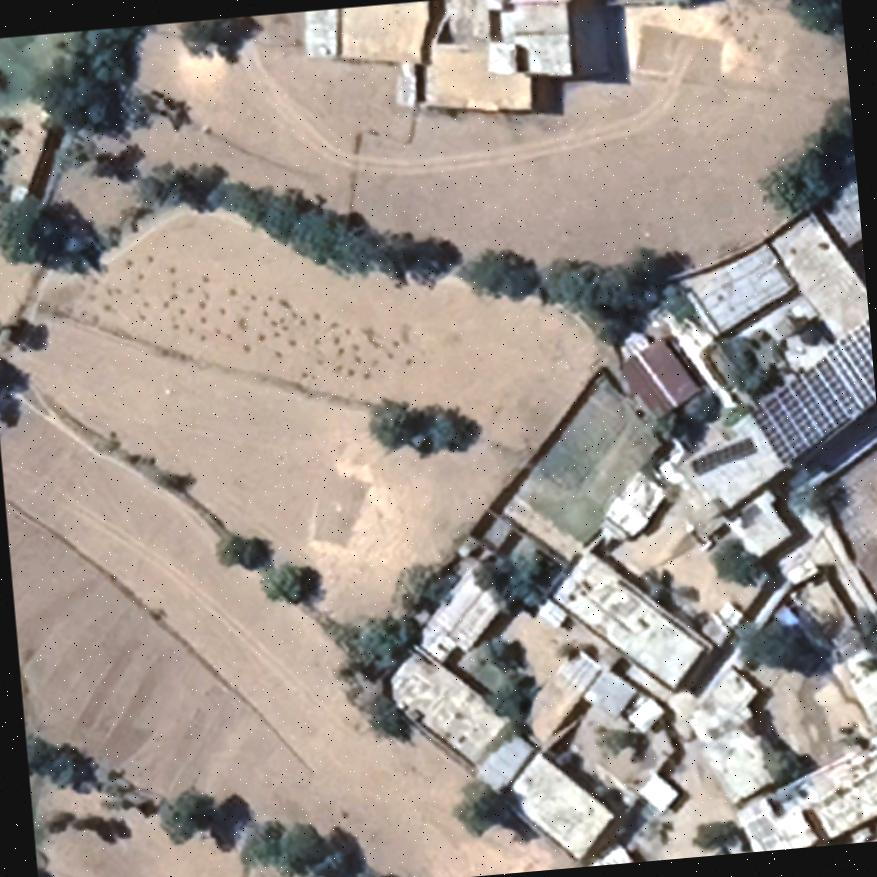Solarpanel: (746, 304, 875, 467), (686, 432, 757, 480)
